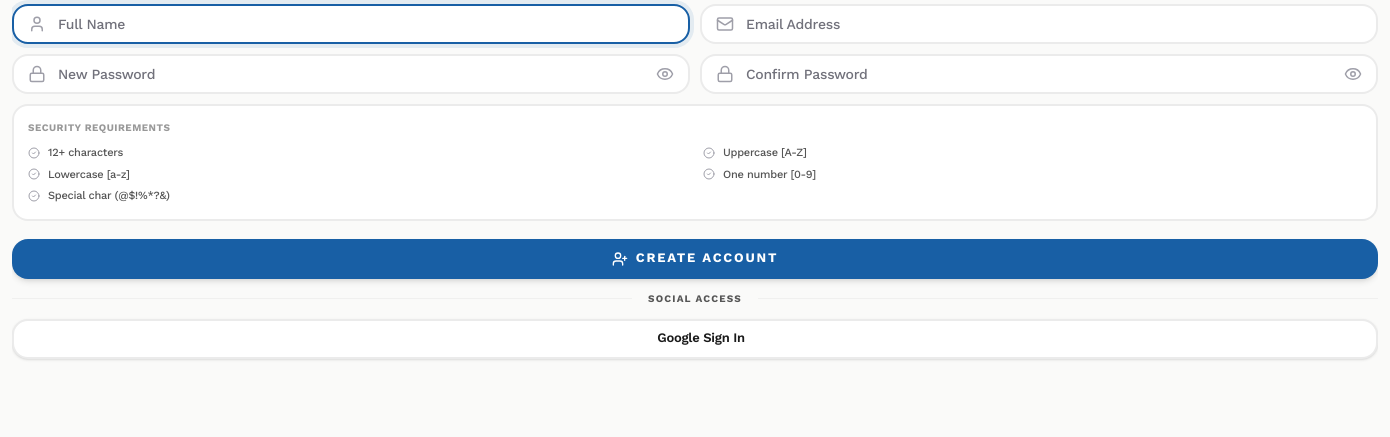
Test case: SignUp Component › shows error if passwords do not match on submit
Type "Test User" into the field labelled "Full Name". click: {"x": 351, "y": 24}
box: [12, 4, 690, 44]
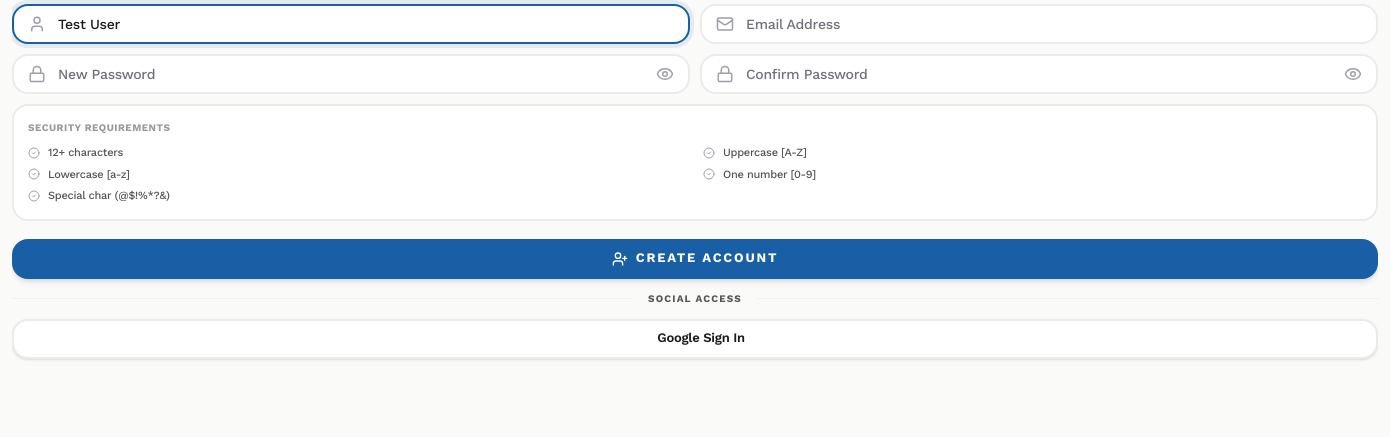
Type "test@example.com" into the field labelled "Email Address". click: {"x": 1039, "y": 24}
box: [700, 4, 1378, 44]
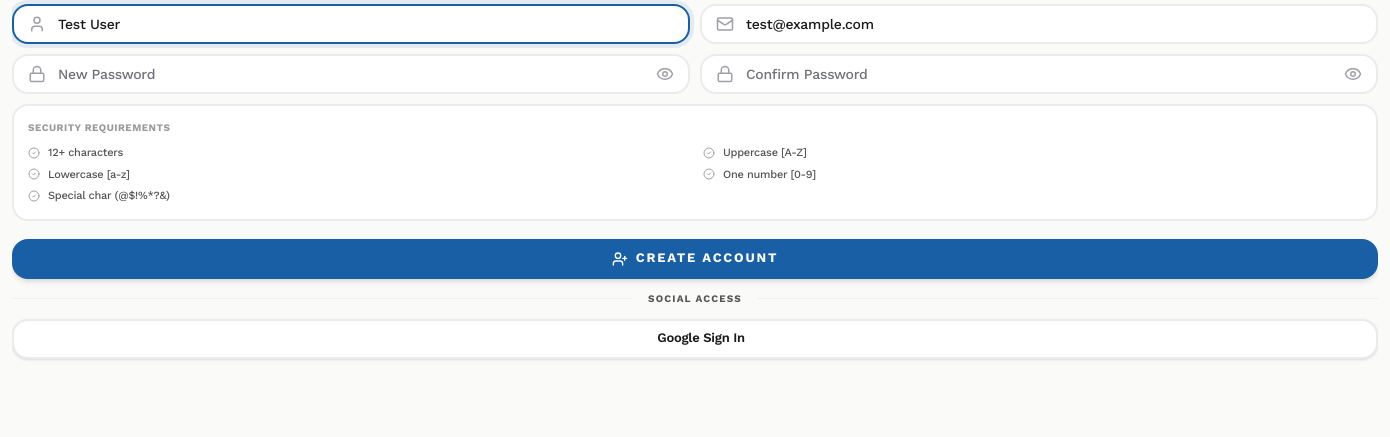
Type "SecurePass123!" into the password field labelled "New Password". click: {"x": 351, "y": 74}
box: [12, 54, 690, 94]
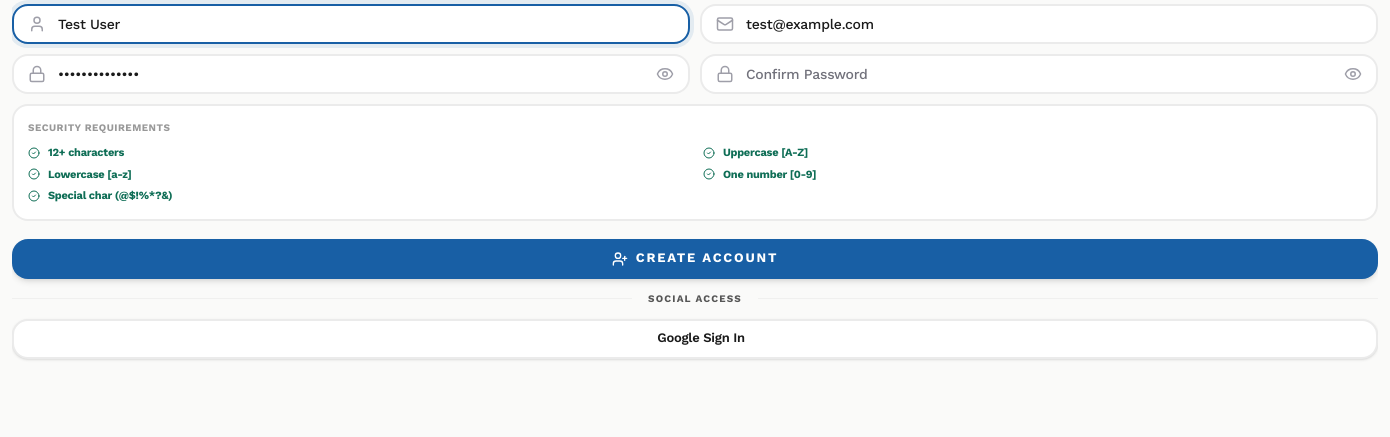
Type "Mismatch" into the password field labelled "Confirm Password". click: {"x": 1039, "y": 74}
box: [700, 54, 1378, 94]
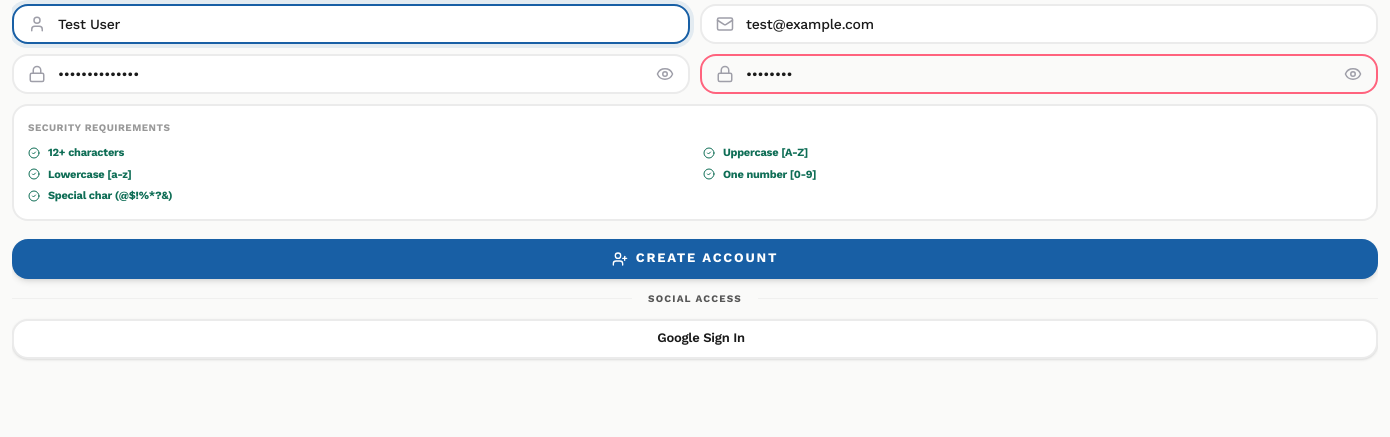
Click the button "Create Account". click: {"x": 695, "y": 259}
box: [12, 239, 1378, 279]
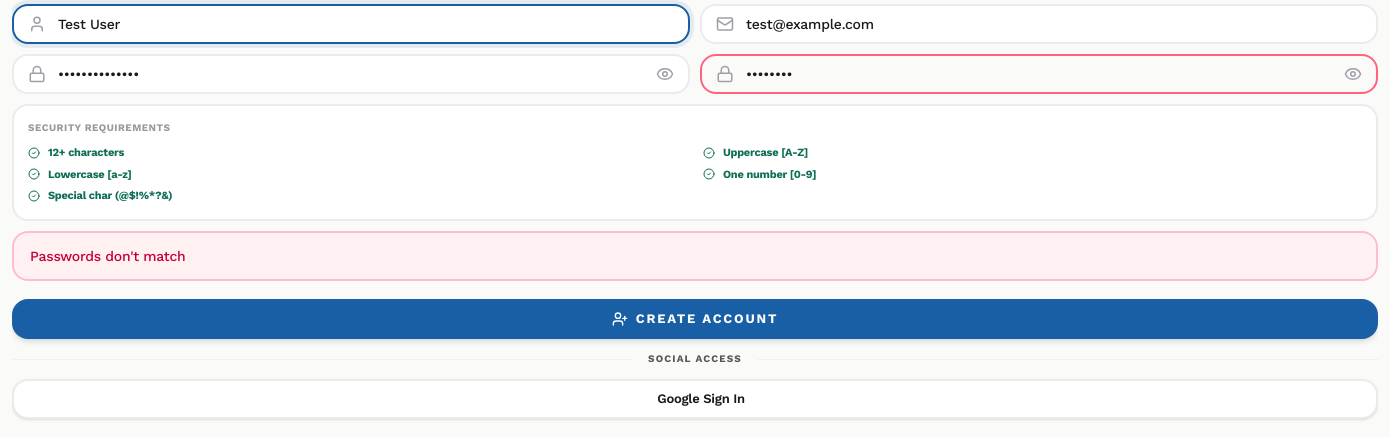
expect the text "Passwords don't match" is shown: met, box [12, 231, 1378, 281]
